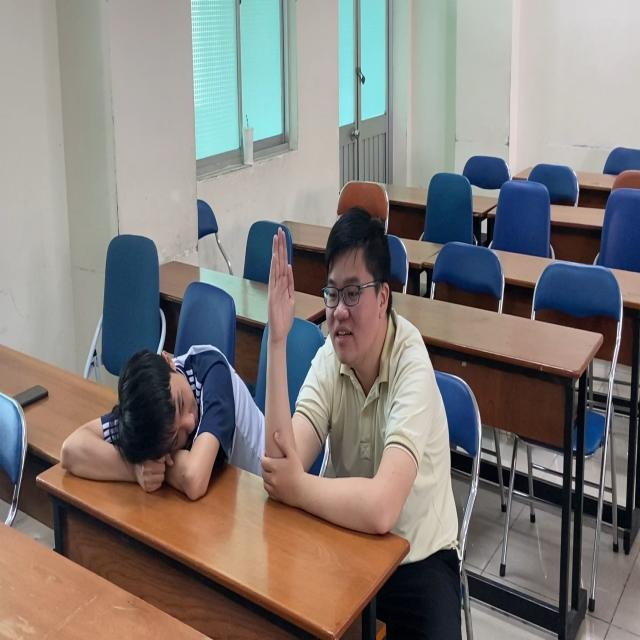raise_hand: (260, 185, 462, 549)
sleep: (55, 330, 264, 496)
